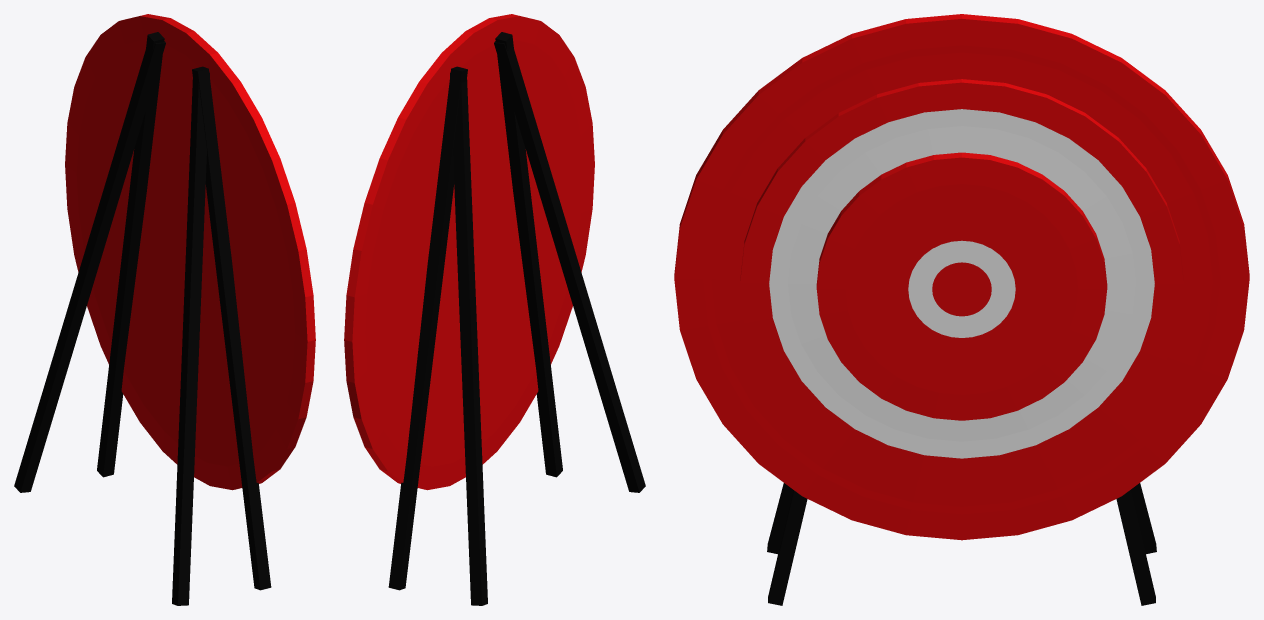
The model's file is objetivo.glb.
3 views of the same model, side by side, from view 1: azimuth 30°, elevation 25°; view 2: azimuth 150°, elevation 25°; view 3: azimuth 270°, elevation 25° (orthographic). The views are drawn at different scales.
Visible parts, largest first — view 1: Cylinder, Cube; view 2: Cylinder, Cube; view 3: Cylinder, Cube.
Part boxes in pixels (x1,y1,x2,y2): Cylinder: [65, 14, 315, 490]; Cube: [14, 32, 271, 605]; Cylinder: [344, 14, 594, 490]; Cube: [388, 32, 645, 605]; Cylinder: [674, 14, 1249, 540]; Cube: [767, 483, 1156, 605].
Size of the model in its own units: 5.98 by 24.58 by 21.72.
